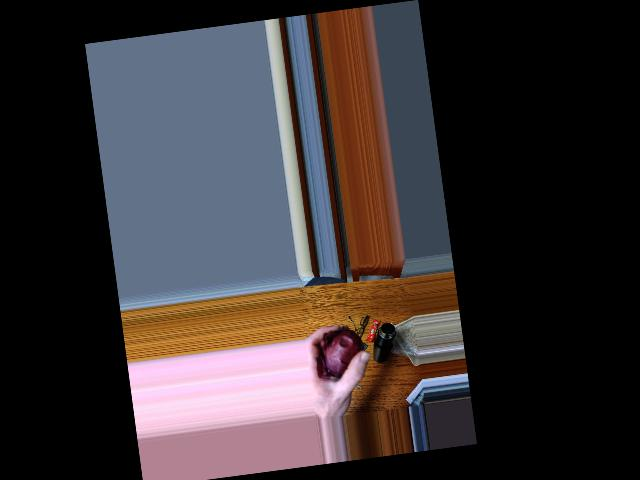onion: (317, 328, 367, 379)
